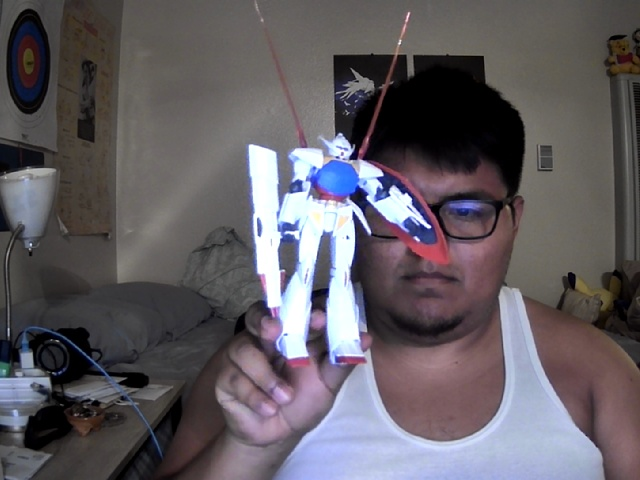Turn-A: (248, 134, 451, 367)
